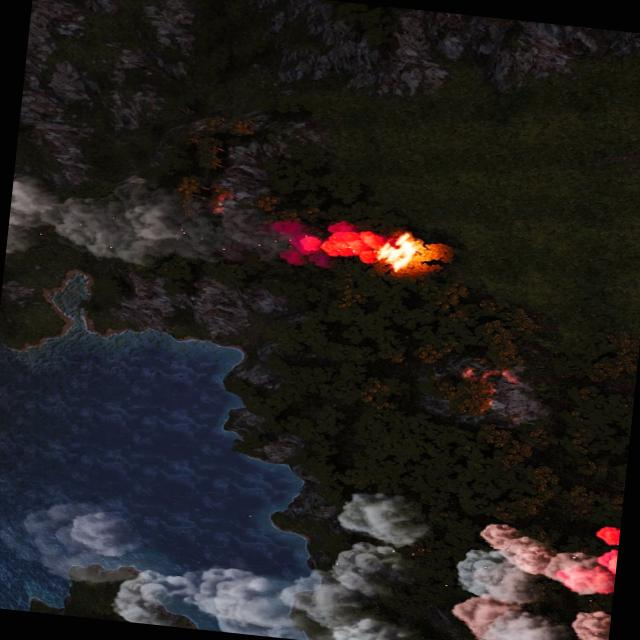fire: (372, 228, 426, 274), (586, 519, 620, 591)
smoke: (5, 453, 427, 640), (5, 163, 386, 294), (446, 527, 617, 640)
